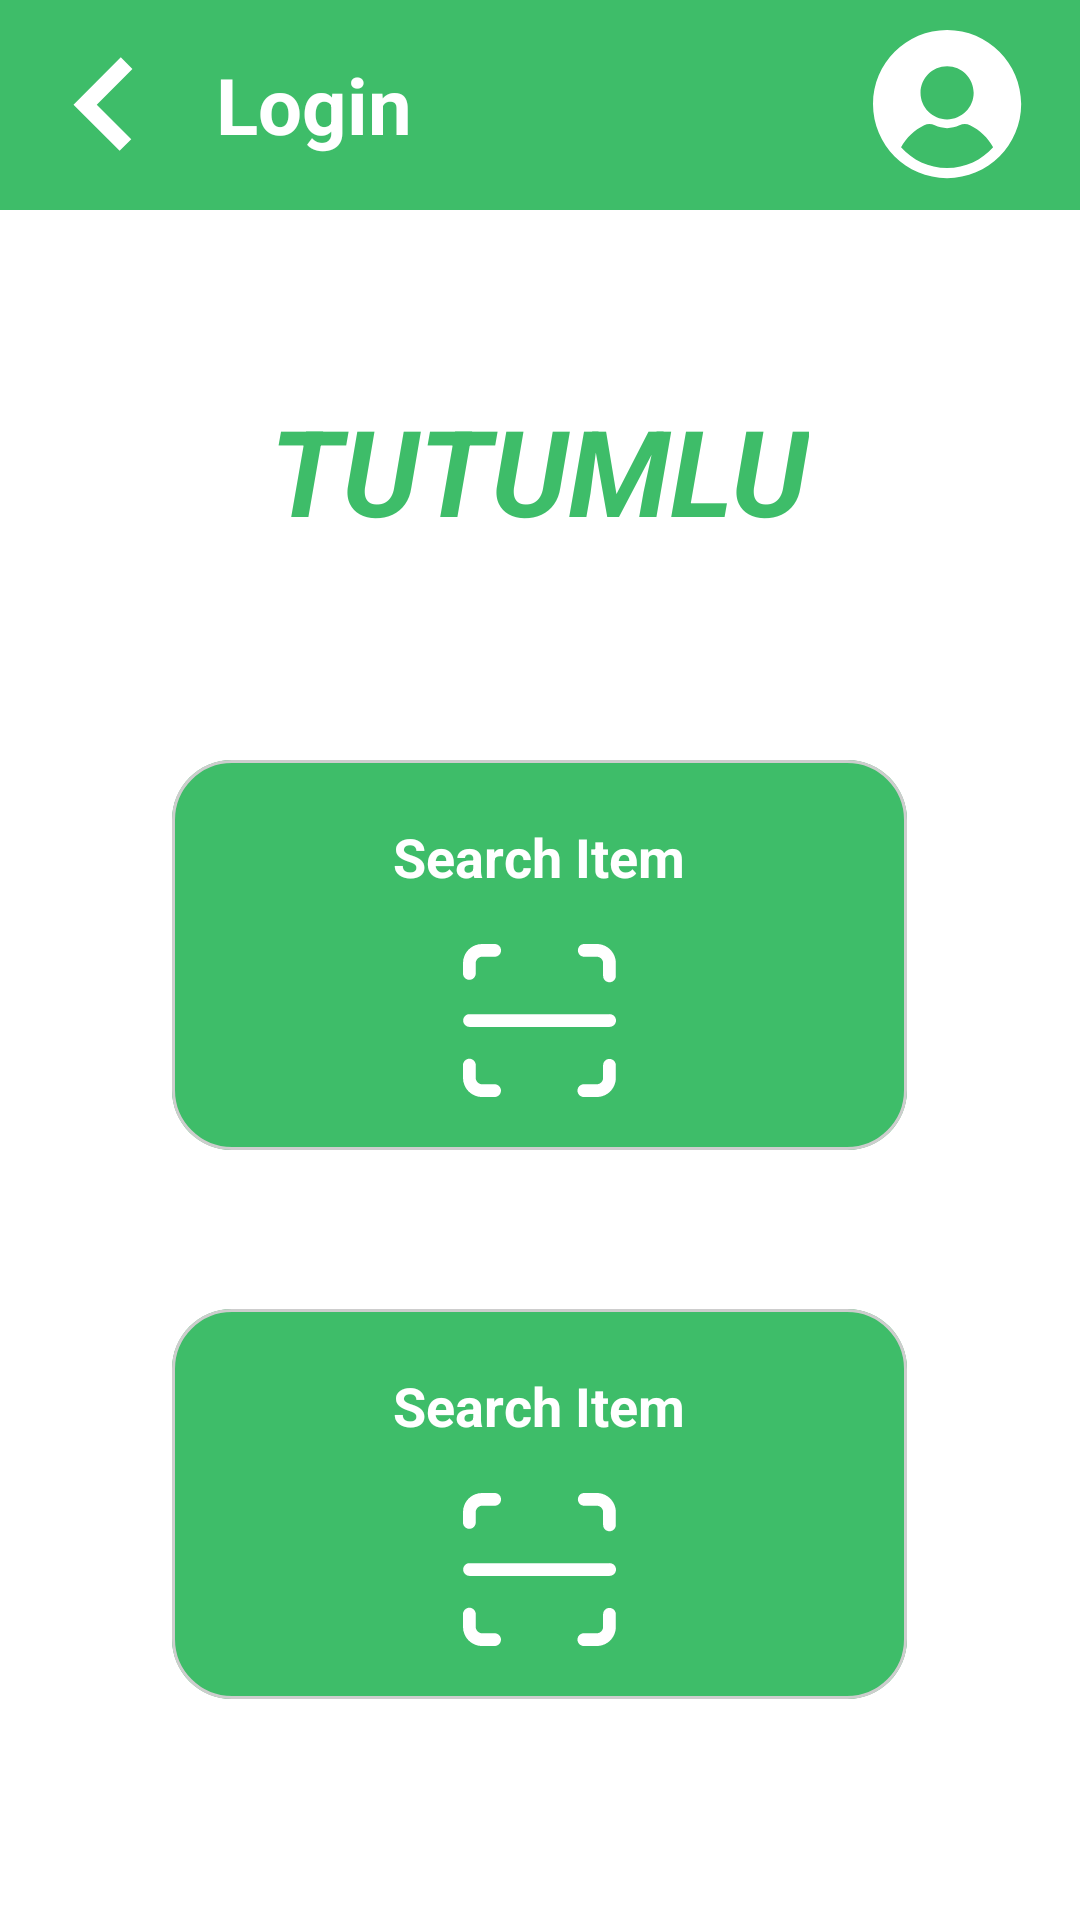

Icons on this 1080 x 1920 Android screen, each with its box as [x1, y1, x2, y2]:
back: [73, 57, 132, 151]
